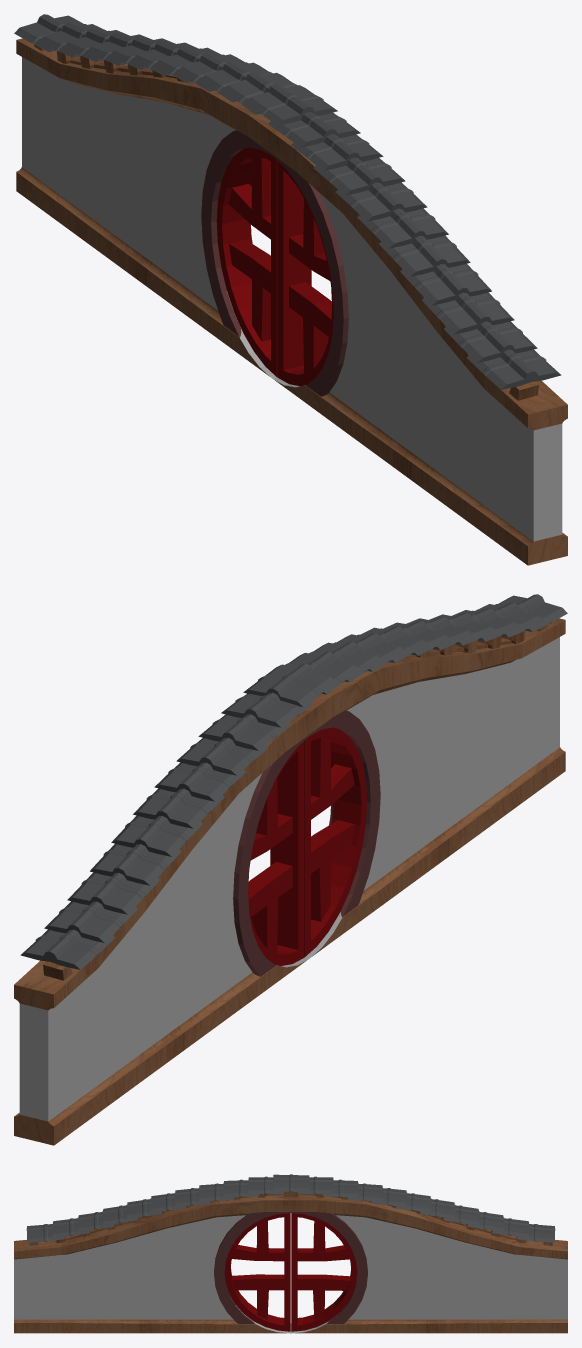
The model's file is MurallaPuerta.fbx.
The picture shows the model from 3 angles, top to bottom: view 1: azimuth 30°, elevation 25°; view 2: azimuth 150°, elevation 25°; view 3: azimuth 270°, elevation 25°; orthographic projection. The views are drawn at different scales.
Parts seen in each view (by area): view 1: Muralla, Tejas, Puerta, Puerta.001, Soportes; view 2: Muralla, Tejas, Puerta.001, Puerta, Soportes; view 3: Muralla, Tejas, Puerta, Puerta.001, Soportes.
Part boxes in pixels (box(x1,y1,x2,y2)): Muralla: box(16, 38, 567, 565); Tejas: box(14, 14, 561, 389); Puerta: box(216, 147, 277, 376); Puerta.001: box(277, 161, 333, 386); Soportes: box(34, 45, 538, 400); Muralla: box(14, 618, 565, 1145); Tejas: box(20, 594, 567, 969); Puerta.001: box(304, 727, 366, 957); Puerta: box(248, 741, 304, 965); Soportes: box(43, 625, 547, 980); Muralla: box(14, 1195, 567, 1333); Tejas: box(26, 1174, 555, 1242); Puerta: box(291, 1213, 357, 1331); Puerta.001: box(224, 1213, 290, 1331); Soportes: box(29, 1191, 552, 1245).
Bounding box in the file's own units: 327 × 1333 × 4428.
5 materials, 1 textured.
